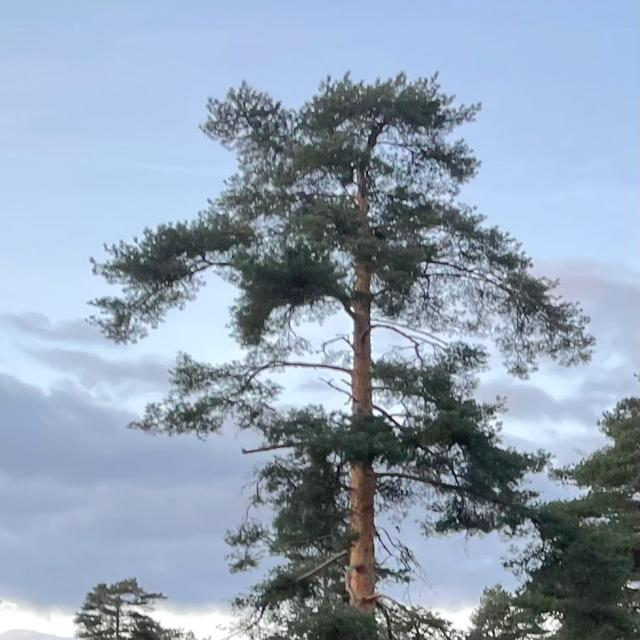pine: (70, 51, 599, 640)
